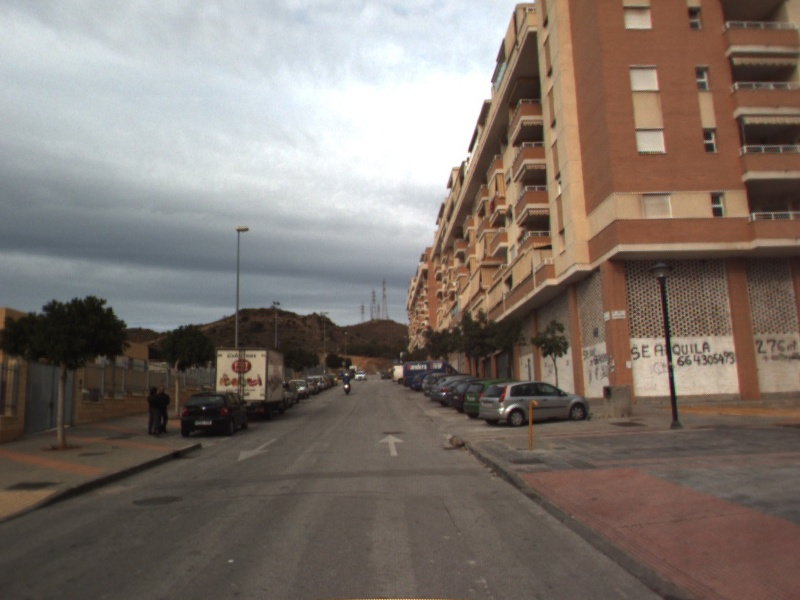STRAIGHT: (377, 432, 407, 458)
